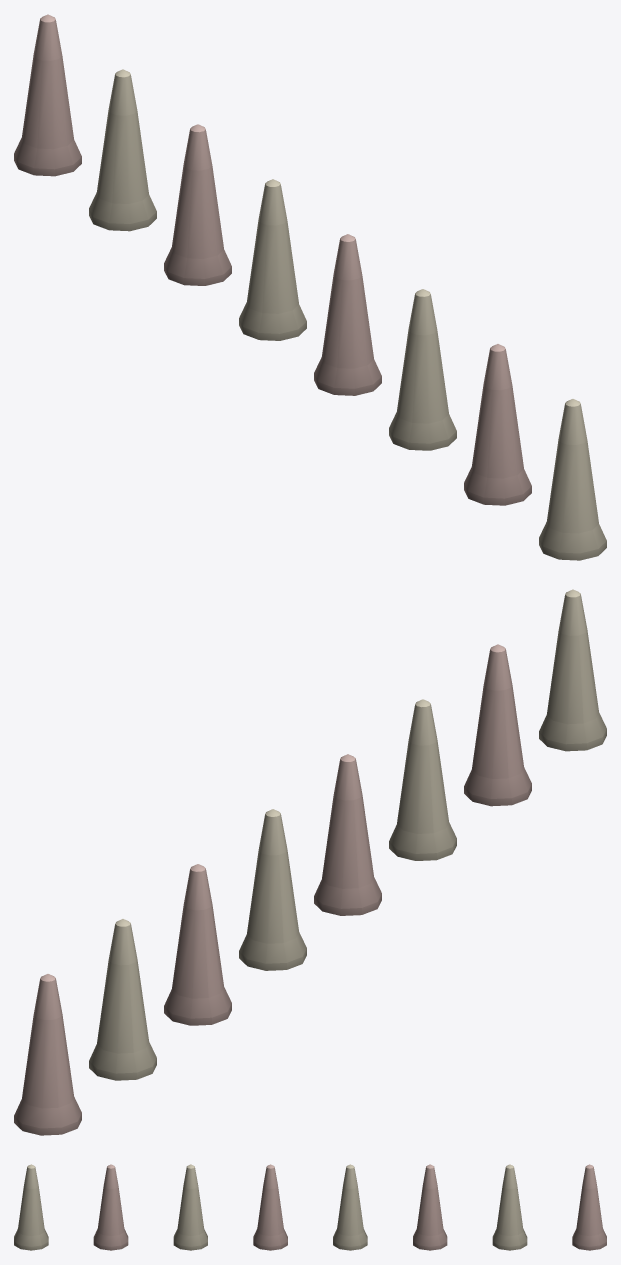
File: cones.glb
The picture shows the model from 3 angles, top to bottom: view 1: azimuth 30°, elevation 25°; view 2: azimuth 150°, elevation 25°; view 3: azimuth 270°, elevation 25°; orthographic projection. The views are drawn at different scales.
Visible parts, largest first — view 1: cones.001; view 2: cones.001; view 3: cones.001.
Boxes of the visible parts, x1,y1,x2,y2 form: cones.001: [14, 14, 606, 560]; cones.001: [14, 589, 606, 1135]; cones.001: [14, 1164, 606, 1250].
Bounding box in the file's own units: 0.26 × 0.62 × 4.24.
